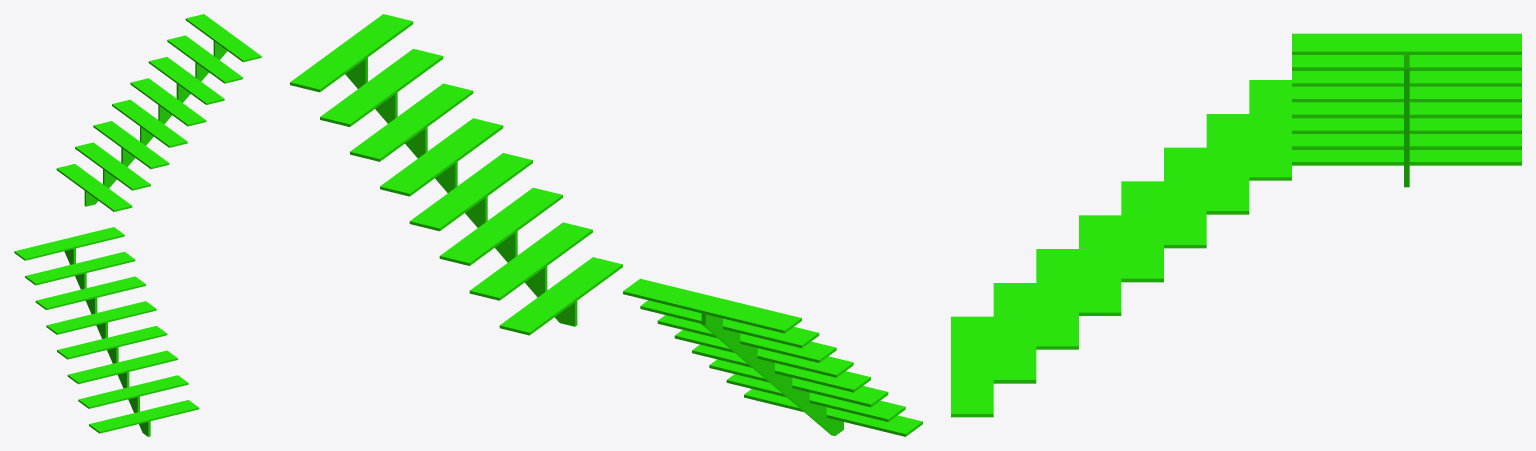
File: Maison_Rosie_Anne_Colliders.fbx
3 renders of one model, left to right at view 1: azimuth 30°, elevation 25°; view 2: azimuth 150°, elevation 25°; view 3: azimuth 270°, elevation 25°, orthographic. The views are drawn at different scales.
Parts seen in each view (by area): view 1: StraightStair004, StraightStair003; view 2: StraightStair003, StraightStair004; view 3: StraightStair004, StraightStair003.
Boxes of the visible parts, bbox=[...] form: StraightStair004: bbox=[14, 227, 199, 436]; StraightStair003: bbox=[56, 14, 261, 211]; StraightStair003: bbox=[290, 14, 622, 335]; StraightStair004: bbox=[623, 278, 922, 436]; StraightStair004: bbox=[951, 80, 1291, 417]; StraightStair003: bbox=[1292, 33, 1521, 187].
Size of what is drawn, in the model's own units: 298 by 311 by 298.
